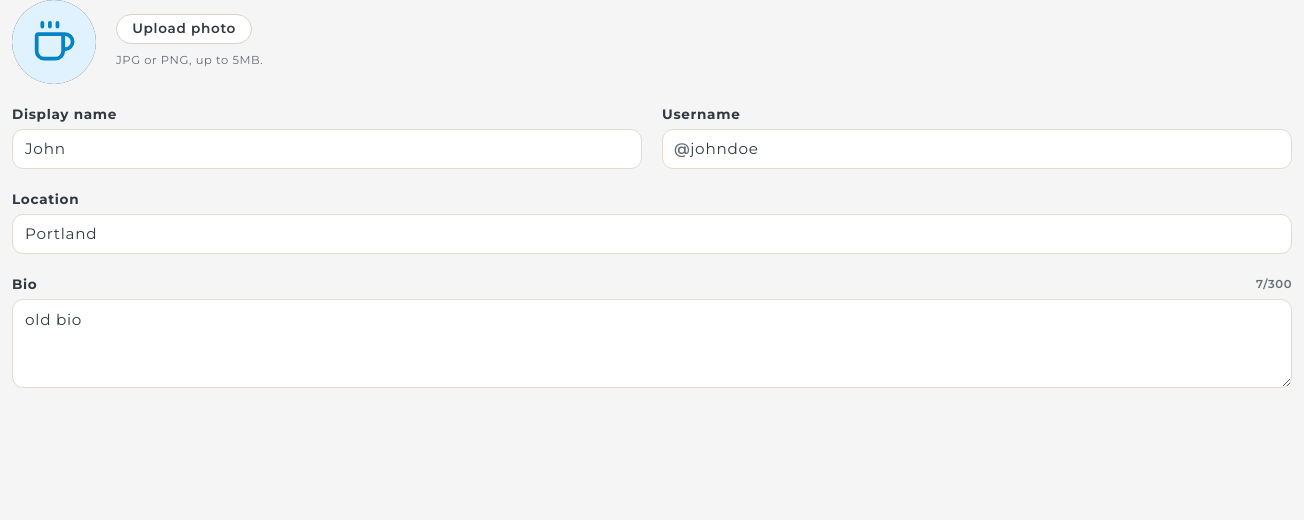
Profile settings — username availability › reports an available username after the debounce
Replace the text in the field labelled "Username @" with "janedoe" at (977, 149), box left=662, top=129, right=1292, bottom=169
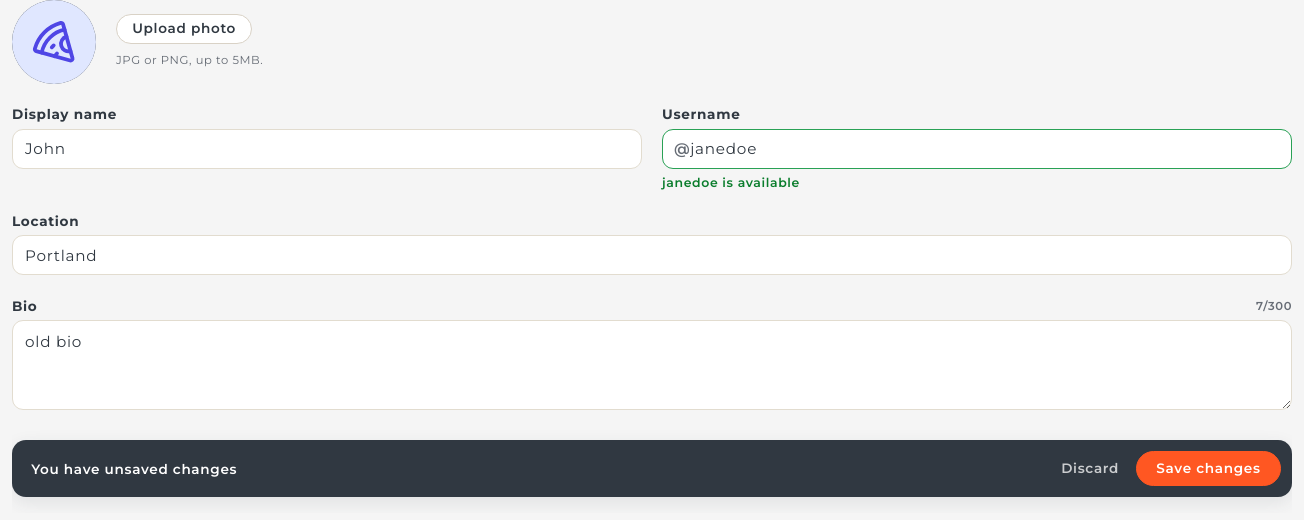
Check: the text "janedoe is available" is shown, box left=662, top=175, right=800, bottom=190
